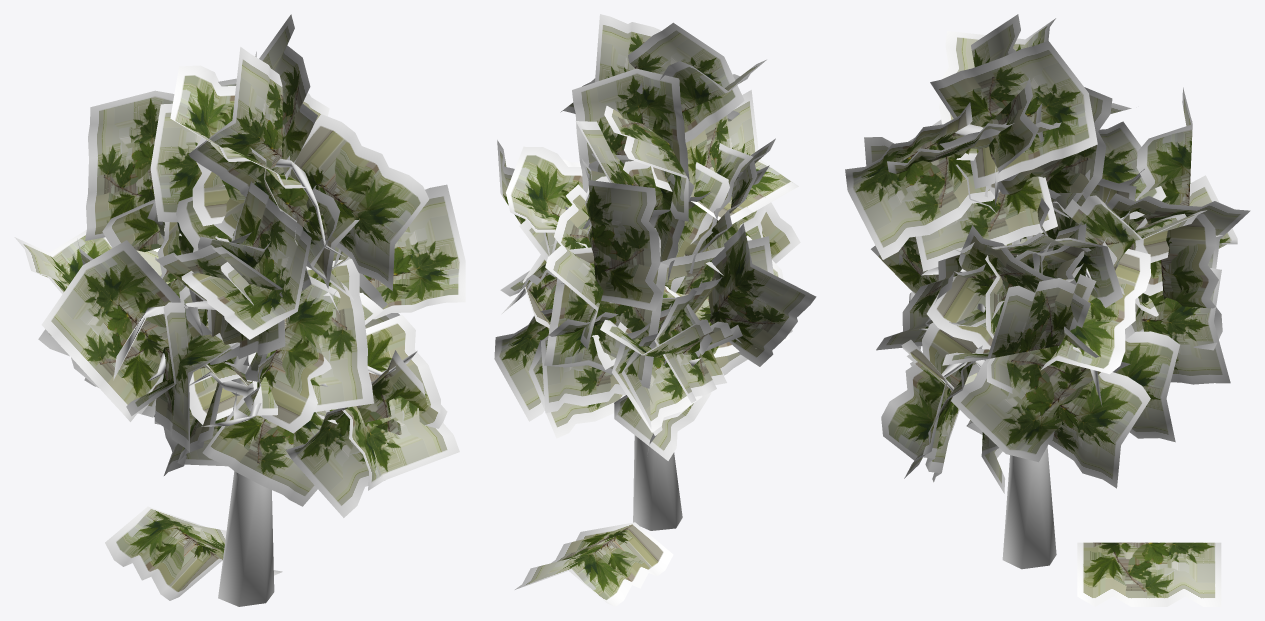
The model's file is Tree_3_DECIMATED.fbx.
3 views of the same model, side by side, from view 1: azimuth 30°, elevation 25°; view 2: azimuth 150°, elevation 25°; view 3: azimuth 270°, elevation 25° (orthographic). The views are drawn at different scales.
Parts seen in each view (by area): view 1: Tree|Leaf|Dupli|36, Tree|Leaf|Dupli|14, Tree, Tree|Leaf|Dupli|28, Tree|Leaf|Dupli|47, Tree|Leaf|Dupli|6, Tree|Leaf|Dupli|51, Tree|Leaf|Dupli|19, Tree|Leaf|Dupli|27, Leaf, Tree|Leaf|Dupli|48, Tree|Leaf|Dupli|33 (+23 smaller); view 2: Tree|Leaf|Dupli|6, Tree|Leaf|Dupli|36, Tree|Leaf|Dupli|8, Leaf, Tree|Leaf|Dupli|7, Tree|Leaf|Dupli|27, Tree|Leaf|Dupli|28, Tree|Leaf|Dupli|23, Tree, Tree|Leaf|Dupli|4, Tree|Leaf|Dupli|42, Tree|Leaf|Dupli|37 (+25 smaller); view 3: Tree|Leaf|Dupli|13, Tree|Leaf|Dupli|14, Tree|Leaf|Dupli|18, Leaf, Tree|Leaf|Dupli|41, Tree, Tree|Leaf|Dupli|12, Tree|Leaf|Dupli|34, Tree|Leaf|Dupli|19, Tree|Leaf|Dupli|47, Tree|Leaf|Dupli|24, Tree|Leaf|Dupli|42 (+24 smaller).
Boxes of the visible parts, x1,y1,x2,y2 form: Tree|Leaf|Dupli|36: (41,240,211,421); Tree|Leaf|Dupli|14: (284,114,429,290); Tree: (113,158,417,606); Tree|Leaf|Dupli|28: (181,181,311,339); Tree|Leaf|Dupli|47: (342,314,459,490); Tree|Leaf|Dupli|6: (85,90,174,240); Tree|Leaf|Dupli|51: (286,350,447,517); Tree|Leaf|Dupli|19: (350,184,465,319); Tree|Leaf|Dupli|27: (188,47,329,196); Leaf: (105,506,282,600); Tree|Leaf|Dupli|48: (243,276,340,433); Tree|Leaf|Dupli|33: (248,258,373,415); Tree|Leaf|Dupli|6: (582,159,662,310); Tree|Leaf|Dupli|36: (708,221,816,366); Tree|Leaf|Dupli|8: (572,68,689,191); Leaf: (515,522,673,606); Tree|Leaf|Dupli|7: (544,247,667,388); Tree|Leaf|Dupli|27: (582,22,744,142); Tree|Leaf|Dupli|28: (685,90,798,224); Tree|Leaf|Dupli|23: (506,146,587,247); Tree: (501,244,742,530); Tree|Leaf|Dupli|4: (545,184,603,349); Tree|Leaf|Dupli|42: (541,312,626,413); Tree|Leaf|Dupli|37: (654,277,726,403); Tree|Leaf|Dupli|13: (930,40,1097,188); Tree|Leaf|Dupli|14: (845,102,994,259); Tree|Leaf|Dupli|18: (951,326,1130,462); Leaf: (1077,542,1221,606); Tree|Leaf|Dupli|41: (1048,372,1150,488); Tree: (909,124,1222,569); Tree|Leaf|Dupli|12: (915,123,1057,271); Tree|Leaf|Dupli|34: (926,225,1090,349); Tree|Leaf|Dupli|19: (942,274,1096,365); Tree|Leaf|Dupli|47: (881,322,982,478); Tree|Leaf|Dupli|24: (1040,249,1150,374); Tree|Leaf|Dupli|42: (1141,268,1230,384).
Size of what is drawn, in the model's own units: 624 by 891 by 582.
2 materials, 1 textured.
